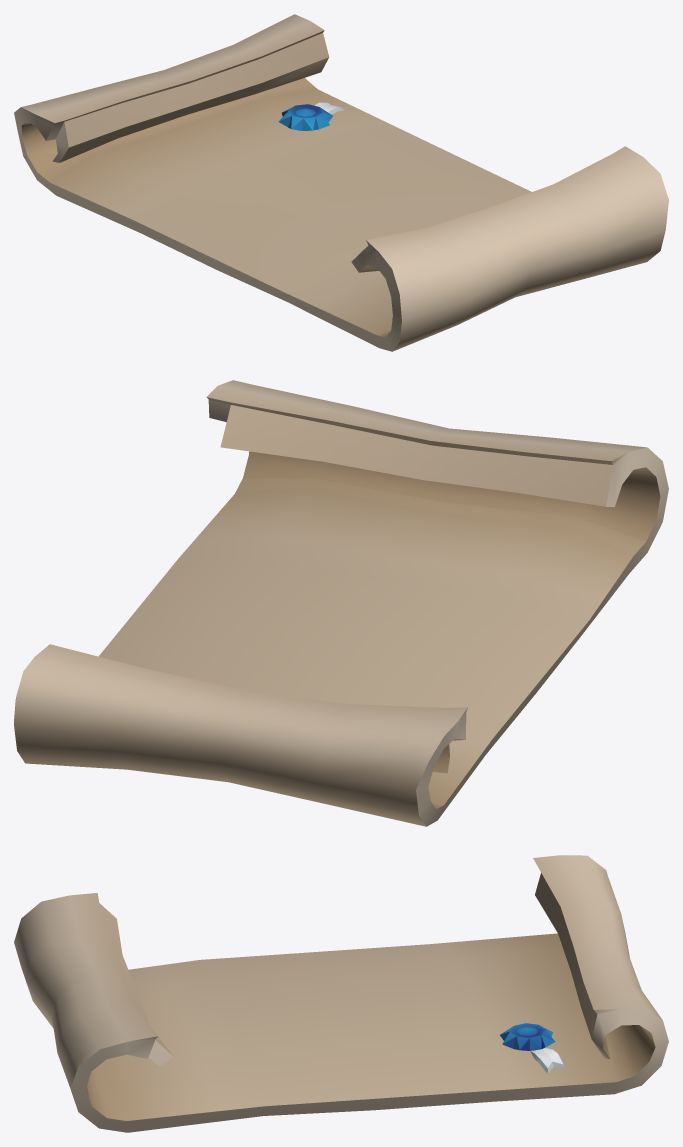
File: building_initiation.glb
3 renders of one model, top to bottom at view 1: azimuth 30°, elevation 25°; view 2: azimuth 150°, elevation 25°; view 3: azimuth 270°, elevation 25°, orthographic. The views are drawn at different scales.
Visible parts, largest first — view 1: map_empty; view 2: map_empty; view 3: map_empty.
Boxes of the visible parts, x1=… form: map_empty: x1=14, y1=14, x2=668, y2=351; map_empty: x1=14, y1=380, x2=668, y2=826; map_empty: x1=14, y1=855, x2=668, y2=1132.
Size of the model in its own units: 5.26 by 1.24 by 7.21.
2 materials, 2 textured.
